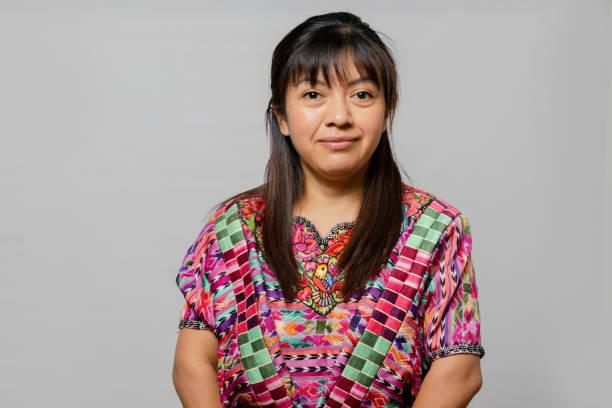Human: (172, 19, 505, 408)
